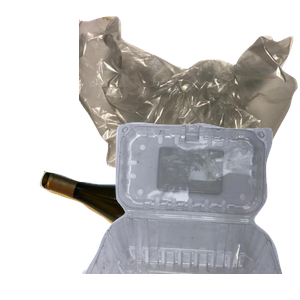glass: (37, 168, 242, 300)
metal: (77, 61, 222, 191)
plastic: (80, 120, 300, 300)
trash: (79, 14, 300, 194)
